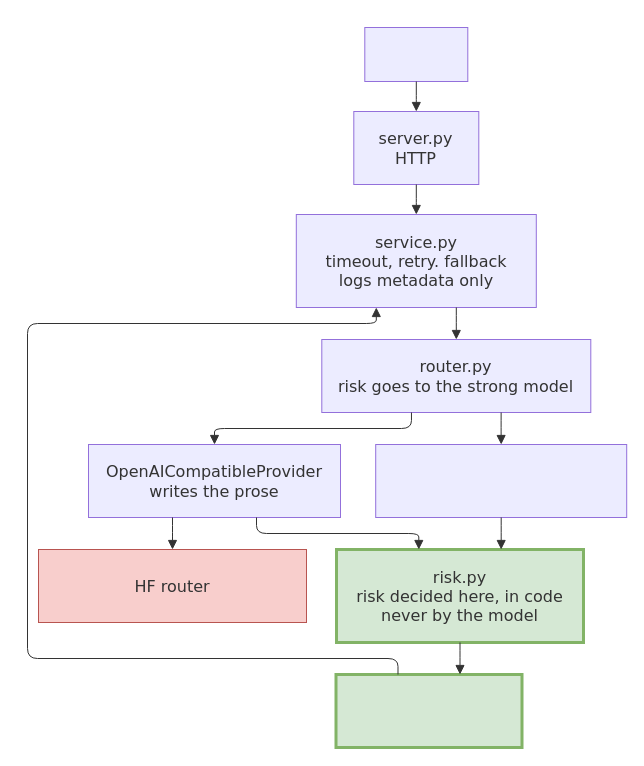
Image size: 644x766. Some labels were removed from this diagram. Each missing label, with the box of its shape:
Client: (364, 26, 468, 82)
DeterministicProvider no credentials, last resort: (375, 444, 627, 518)
schema.py validate or reject: (334, 672, 523, 748)
